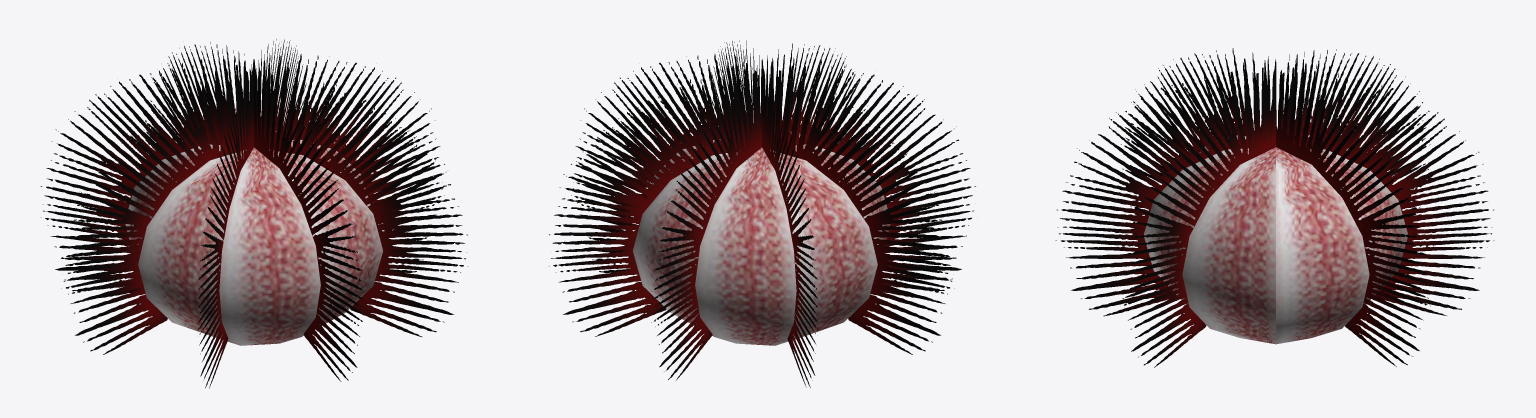
Rendered from urchinWithHairLongRed.fbx.
The picture shows the model from 3 angles, left to right: view 1: azimuth 30°, elevation 25°; view 2: azimuth 150°, elevation 25°; view 3: azimuth 270°, elevation 25°; orthographic projection.
Visible parts, largest first — view 1: urchinWithHairLongRedObject1; view 2: urchinWithHairLongRedObject1; view 3: urchinWithHairLongRedObject1.
Part boxes in pixels (<box>): urchinWithHairLongRedObject1: <box>40,39,468,388</box>; urchinWithHairLongRedObject1: <box>549,40,975,387</box>; urchinWithHairLongRedObject1: <box>1055,48,1494,367</box>.
Bounding box in the file's own units: 0.1969 × 0.1244 × 0.1969.
1 material, 1 textured.
